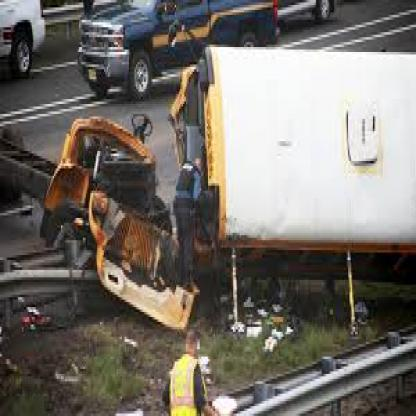accident: (34, 42, 416, 328)
